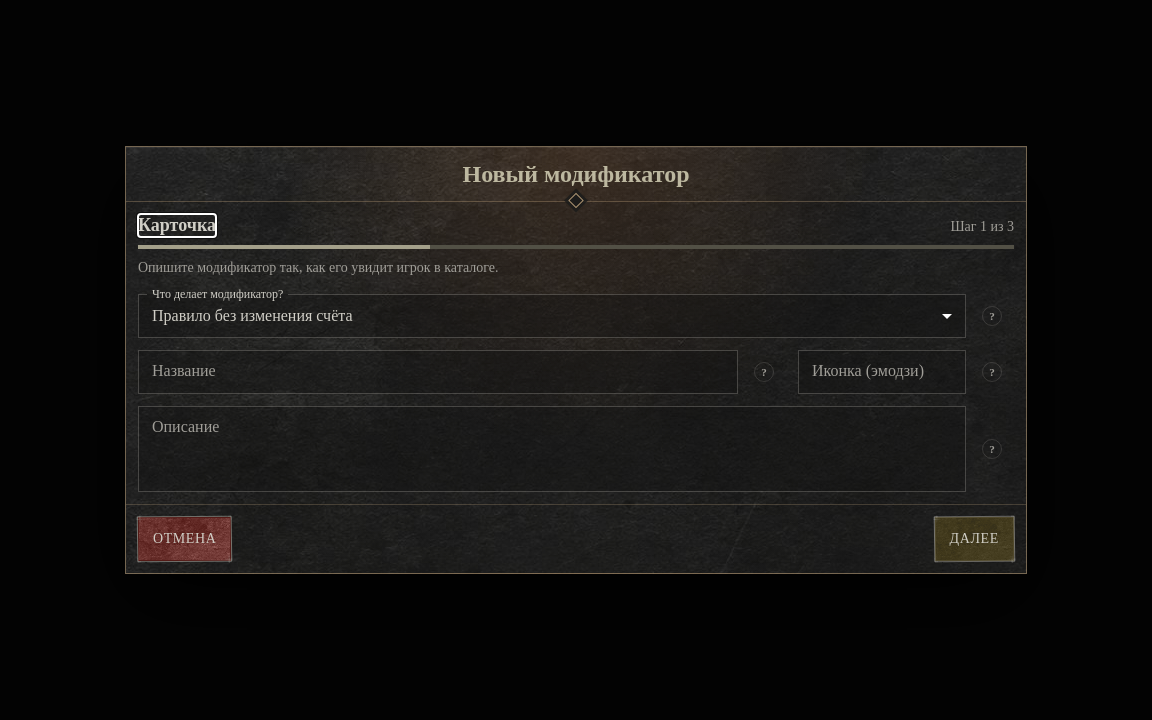
Test case: ModifierFormDialog › prevents duplicate preview requests and closing while reviewing the draft
The width and height of the screenshot is (1152, 720).
Type "Новое правило" into the field labelled "Название" at (438, 372), box x1=138 y1=352 x2=738 y2=392
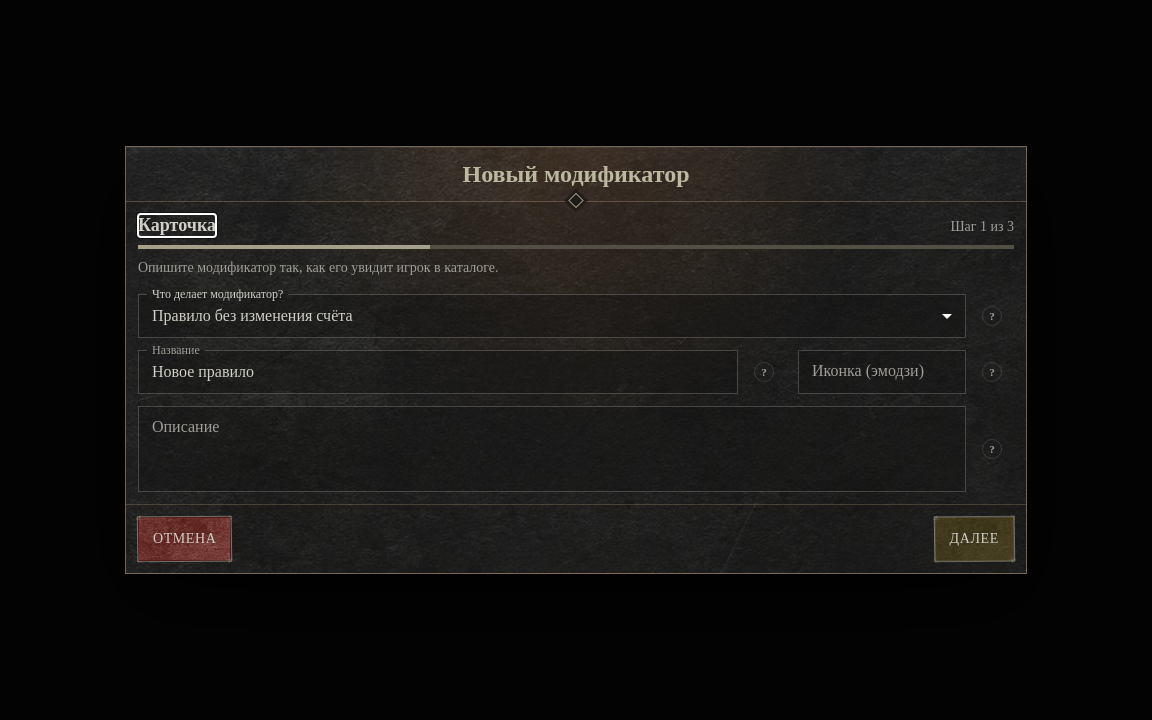
Type "Описание правила" into the text box labelled "Описание" at (552, 449), box x1=152 y1=414 x2=952 y2=483
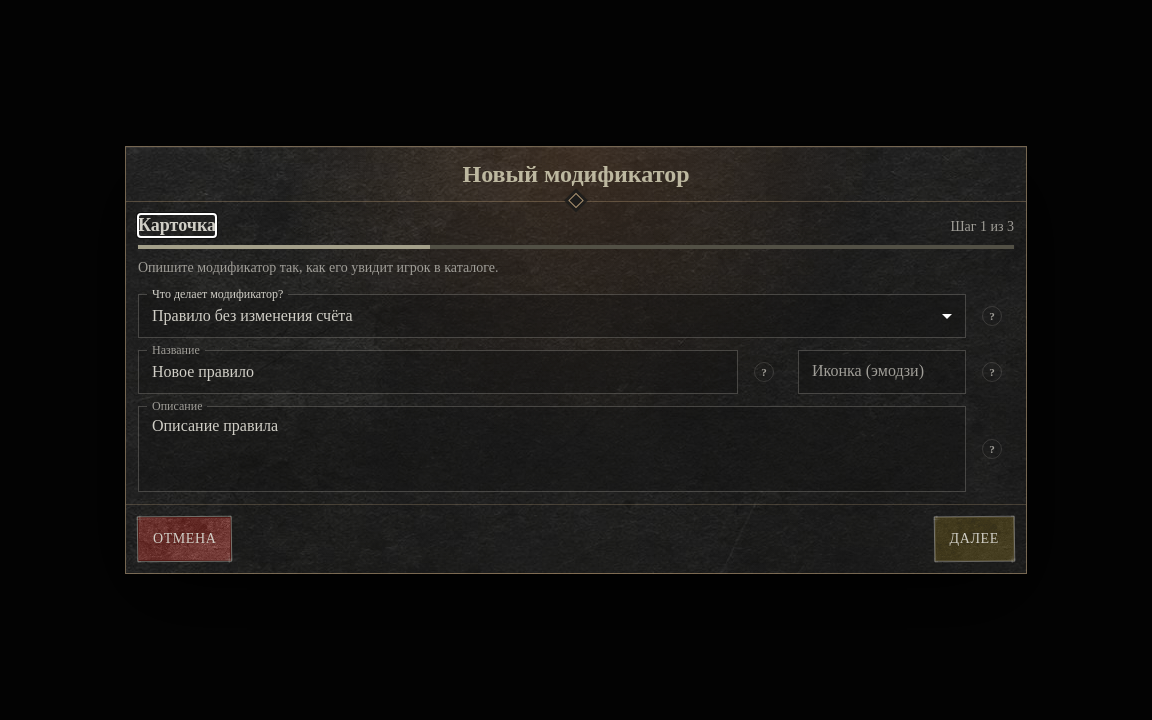
Click the button "Далее" at (974, 539), box x1=935 y1=517 x2=1014 y2=561
(page scrolled)
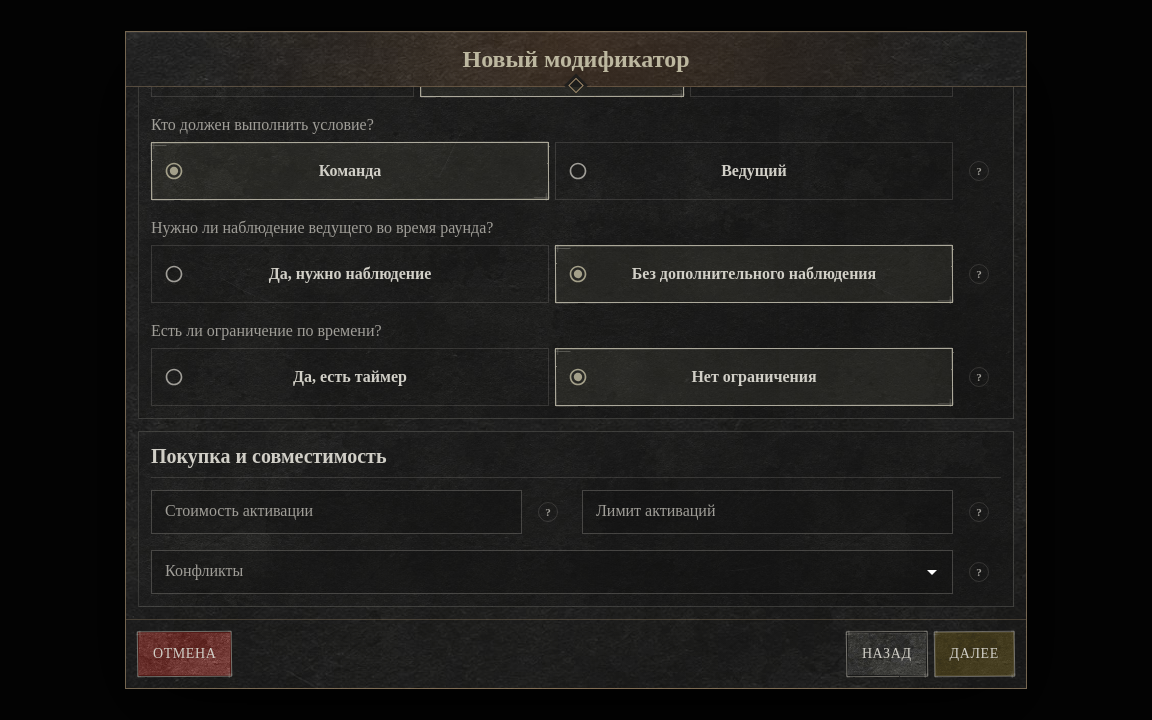
Expected: the number field labelled "Стоимость активации" is shown
Type "0" into the number field labelled "Стоимость активации" at (336, 512), box x1=151 y1=492 x2=522 y2=532
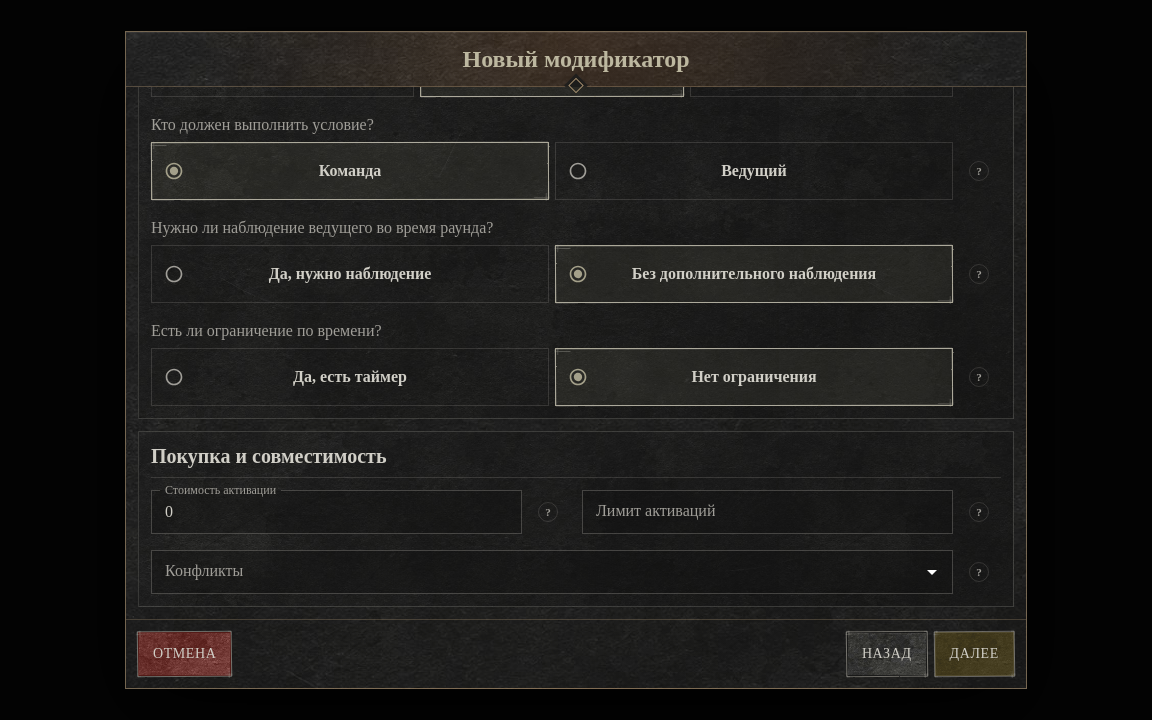
Click the button "Далее" at (974, 654), box x1=935 y1=632 x2=1014 y2=676
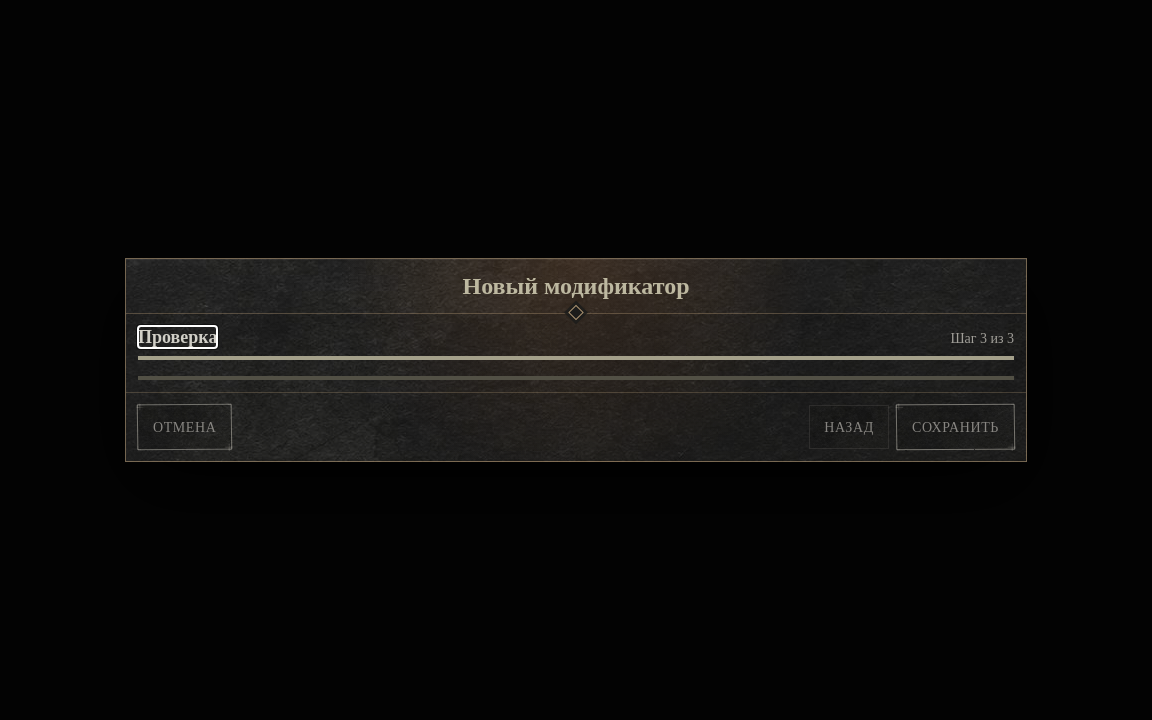
Expected: the button "Назад" is disabled, x1=809 y1=405 x2=889 y2=449
Expected: the button "Отмена" is disabled, x1=138 y1=405 x2=232 y2=449
Expected: the button "Сохранить" is disabled, x1=897 y1=405 x2=1014 y2=449
Submit the form with id "catalog-modifier-wizard-form", box x1=138 y1=376 x2=1014 y2=380
Press Escape in the dialog, box x1=125 y1=258 x2=1027 y2=462
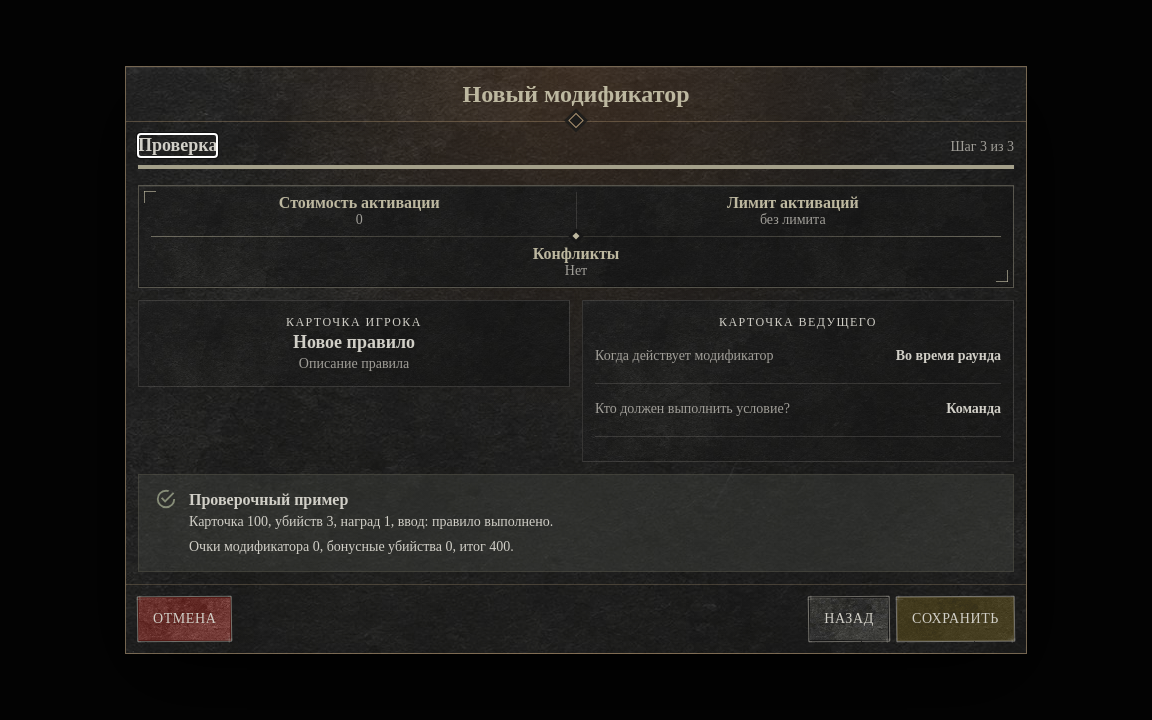
Expected: the heading "Карточка игрока" is shown, x1=286 y1=315 x2=422 y2=329
Expected: the button "Сохранить" is enabled, x1=897 y1=597 x2=1014 y2=641
